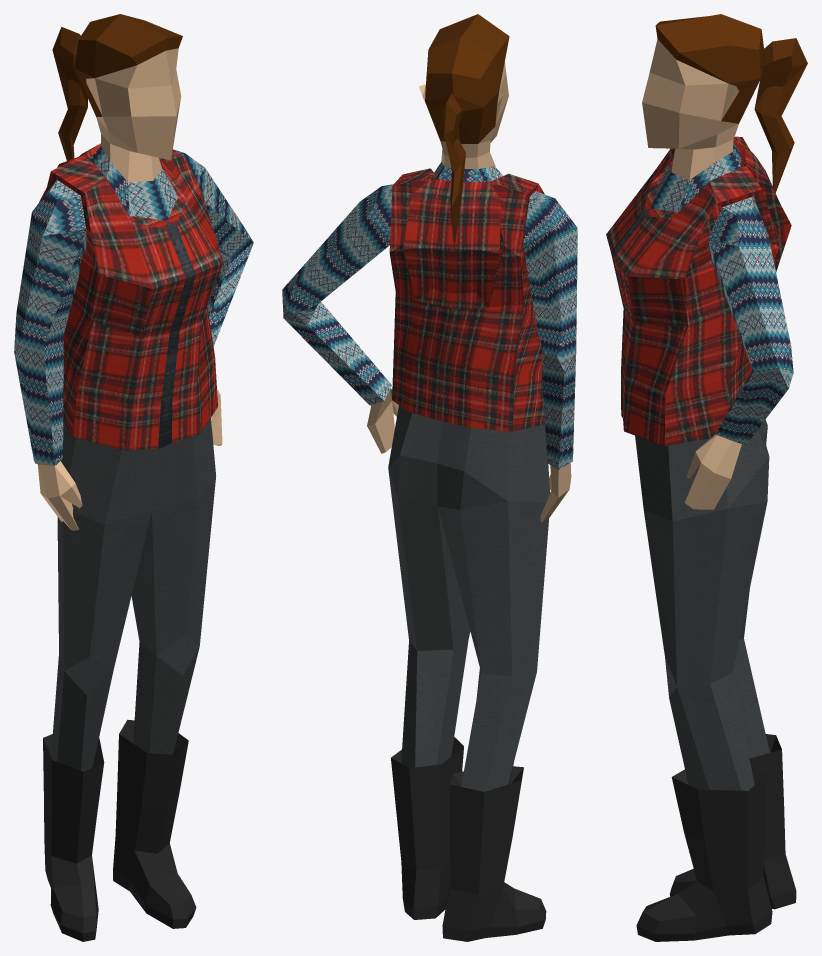
File: AutumnWomanA.010.glb
3 views of the same model, side by side, from view 1: azimuth 30°, elevation 25°; view 2: azimuth 150°, elevation 25°; view 3: azimuth 270°, elevation 25° (orthographic). The views are drawn at different scales.
Parts seen in each view (by area): view 1: AutumnWomanA.010; view 2: AutumnWomanA.010; view 3: AutumnWomanA.010.
Boxes of the visible parts, box(x1,y1,x2,y2) form: AutumnWomanA.010: box(14, 14, 253, 941); AutumnWomanA.010: box(282, 14, 577, 941); AutumnWomanA.010: box(606, 14, 807, 941).
Size of the model in its own units: 0.5274 by 1.73 by 0.3458.
1 material, 1 textured.
